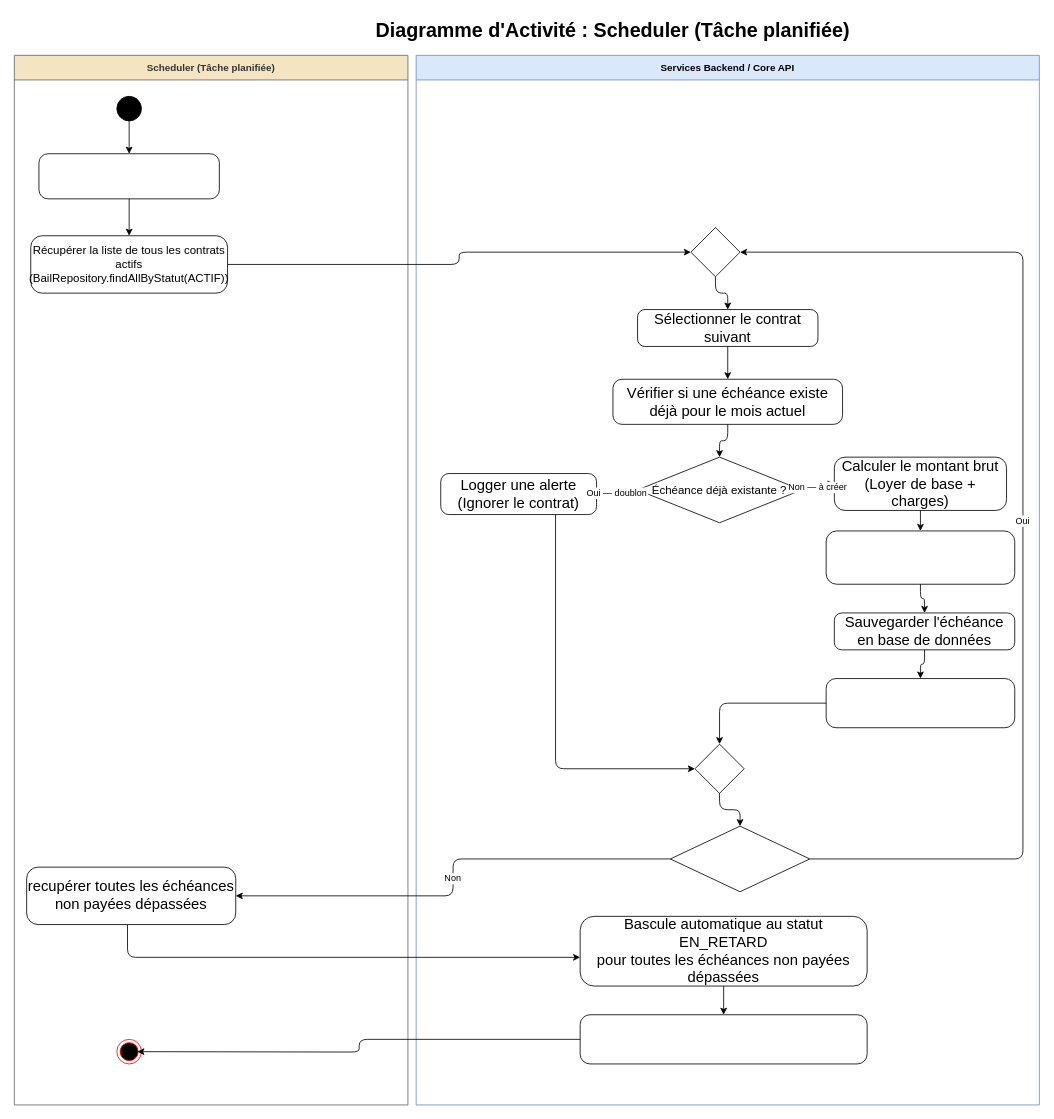
Image size: 1054x1119. Some labels were removed from this diagram. Each missing label, with the box of its shape:
Appeler NotificationService.envoyer(): (825, 678, 1015, 728)
Autres contrats à traiter ?: (670, 825, 810, 892)
Créer l'entité Echeance (statut=NON_PAYE, dateEcheance=01/MM/AAAA): (825, 530, 1015, 584)
Déclenchement automatique (Chaque 1er du mois à 00:00): (38, 153, 219, 199)
Envoyer les notifications ALERTE_RETARD pour chaque locataire concerné: (579, 1014, 867, 1064)
